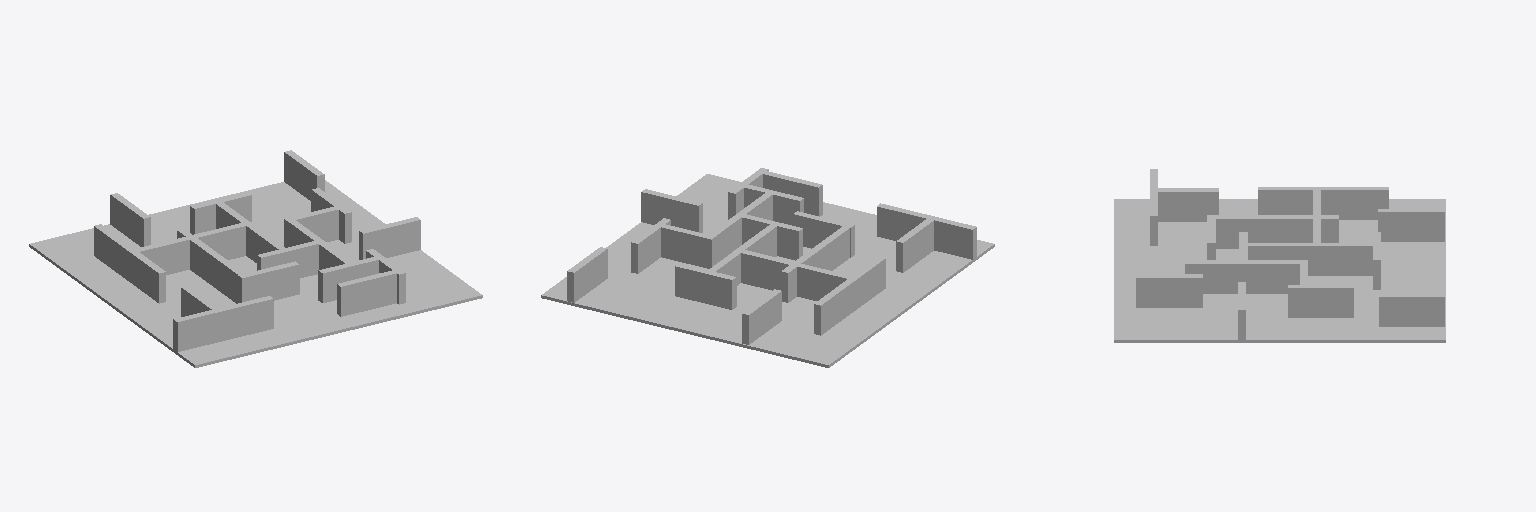
The model's file is field0.obj.
The picture shows the model from 3 angles: view 1: azimuth 30°, elevation 25°; view 2: azimuth 150°, elevation 25°; view 3: azimuth 270°, elevation 25°; orthographic projection.
Parts seen in each view (by area): view 1: Cube.023_Cube.024, Cube; view 2: Cube.023_Cube.024, Cube; view 3: Cube.023_Cube.024, Cube.
Boxes of the visible parts, <box> form: Cube.023_Cube.024: <box>94,150,420,351</box>; Cube: <box>29,180,482,367</box>; Cube.023_Cube.024: <box>567,168,976,344</box>; Cube: <box>541,174,994,367</box>; Cube.023_Cube.024: <box>1136,169,1444,339</box>; Cube: <box>1114,199,1445,342</box>.
Size of the model in its own units: 400 by 43.94 by 400.